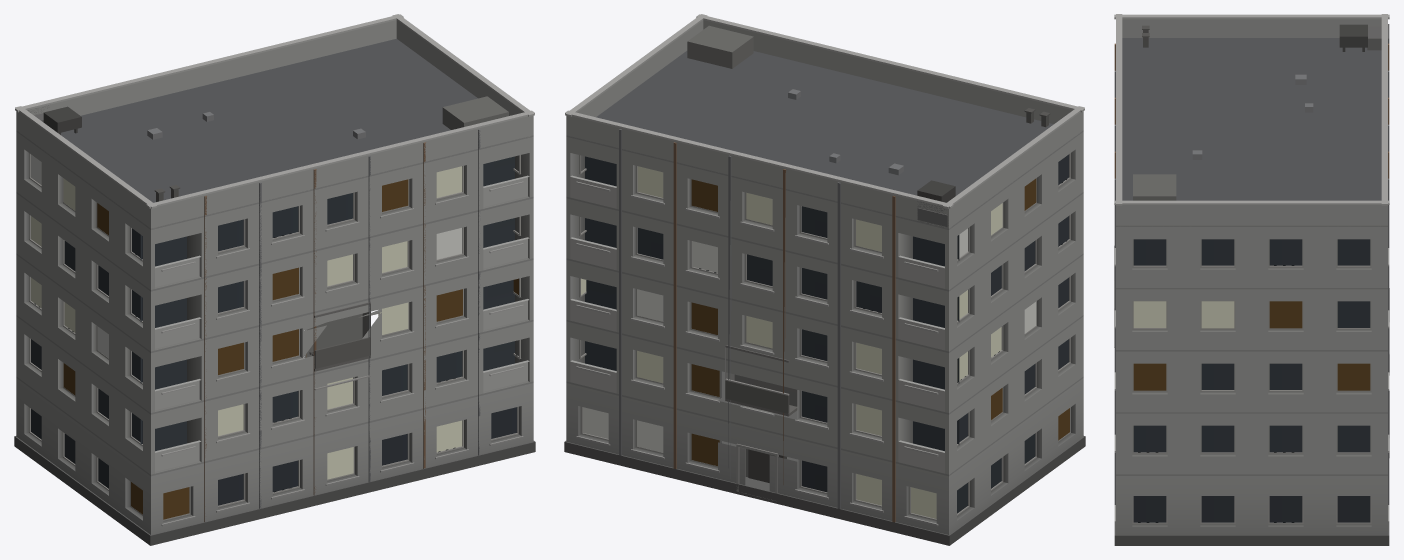
File: panel_block.glb
3 renders of one model, left to right at view 1: azimuth 30°, elevation 25°; view 2: azimuth 150°, elevation 25°; view 3: azimuth 270°, elevation 25°, orthographic.
Parts seen in each view (by area): view 1: panel_block.001; view 2: panel_block.001; view 3: panel_block.001.
Part boxes in pixels (x1=…): panel_block.001: x1=14, y1=14, x2=535, y2=545; panel_block.001: x1=564, y1=14, x2=1085, y2=545; panel_block.001: x1=1114, y1=14, x2=1389, y2=545.
Bounding box in the file's own units: 20.64 × 17.33 × 12.64.
